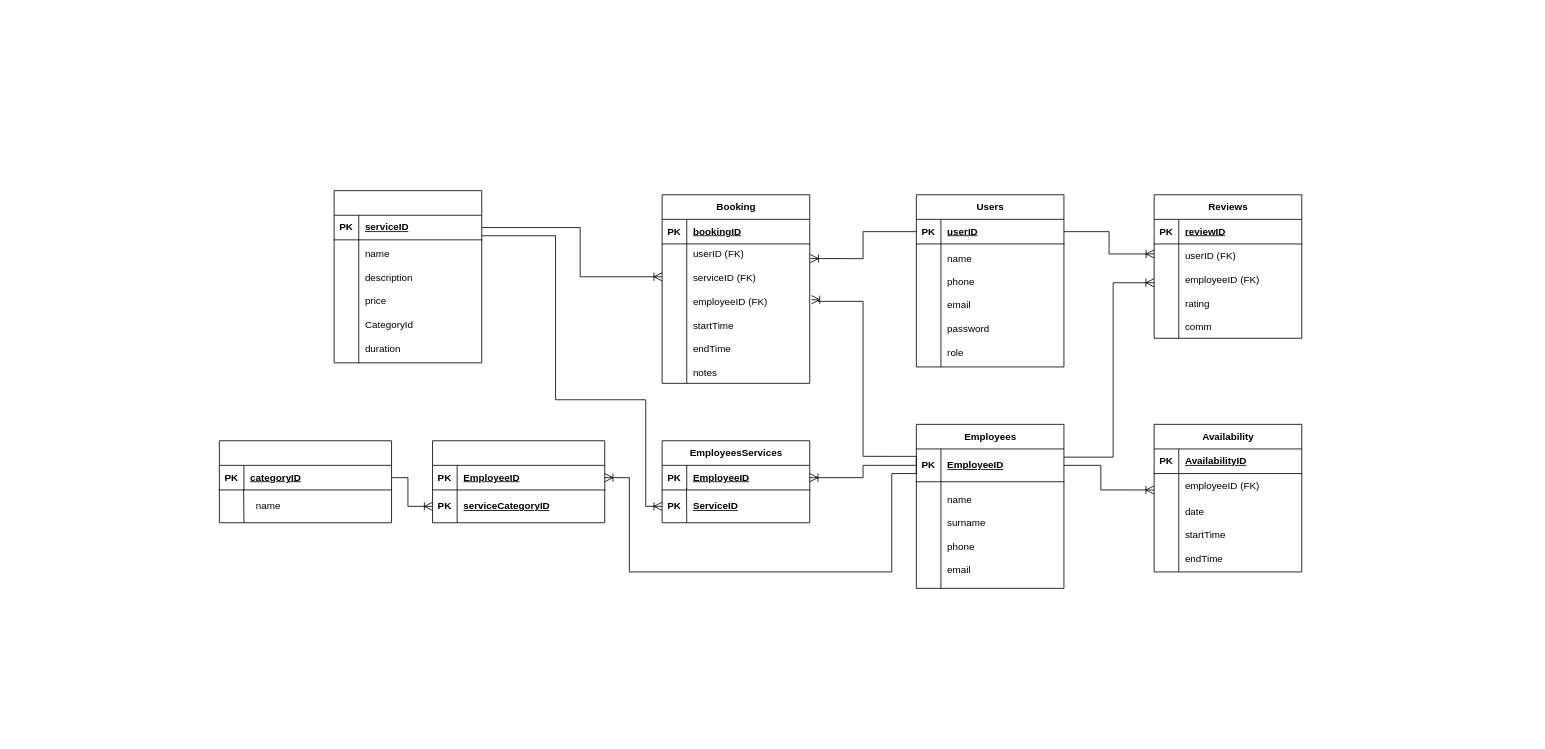
This 1545x749 diagram has some shape labels left out. Here are the shapes that lost their labels. From the top down, the box of each, then its label:
(333, 190, 482, 363): Services
(219, 440, 392, 523): ServiceCategory
(432, 440, 605, 523): EmployeesServicesCategories
